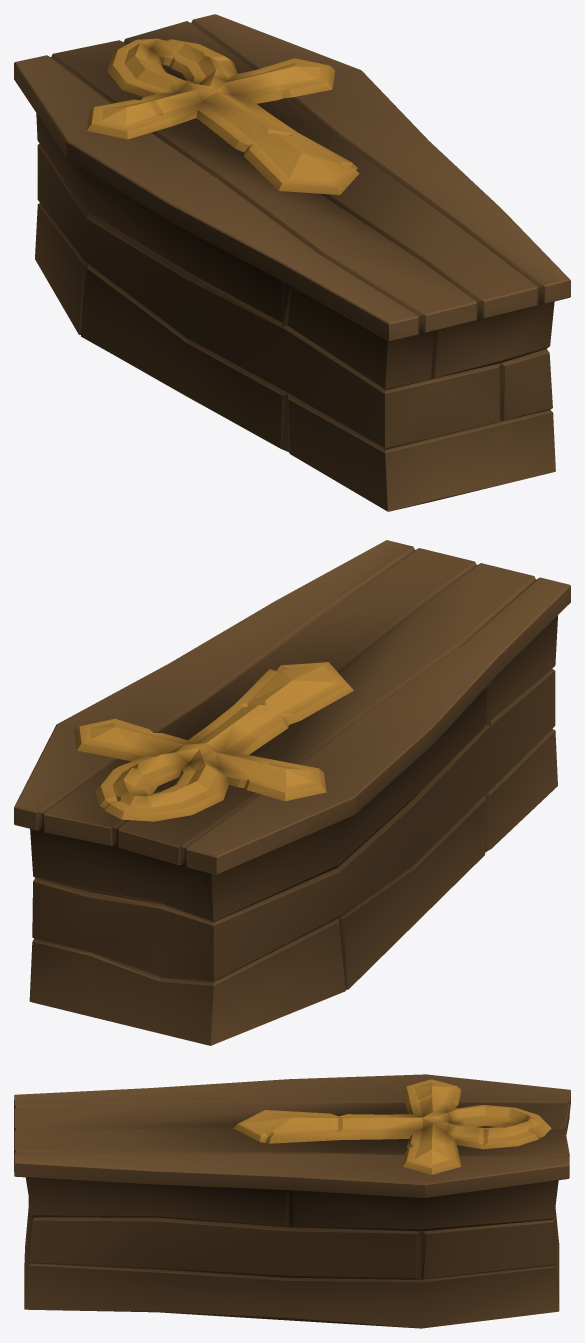
The model's file is obj_coffin_D.FBX.
The picture shows the model from 3 angles, top to bottom: view 1: azimuth 30°, elevation 25°; view 2: azimuth 150°, elevation 25°; view 3: azimuth 270°, elevation 25°; orthographic projection. The views are drawn at different scales.
Visible parts, largest first — view 1: obj_coffin_D; view 2: obj_coffin_D; view 3: obj_coffin_D.
Part boxes in pixels (left/top/right/bottom): obj_coffin_D: left=14, top=14, right=570, bottom=511; obj_coffin_D: left=14, top=540, right=570, bottom=1045; obj_coffin_D: left=14, top=1074, right=570, bottom=1328.
Bounding box in the file's own units: 1.55 × 1.07 × 3.31.
